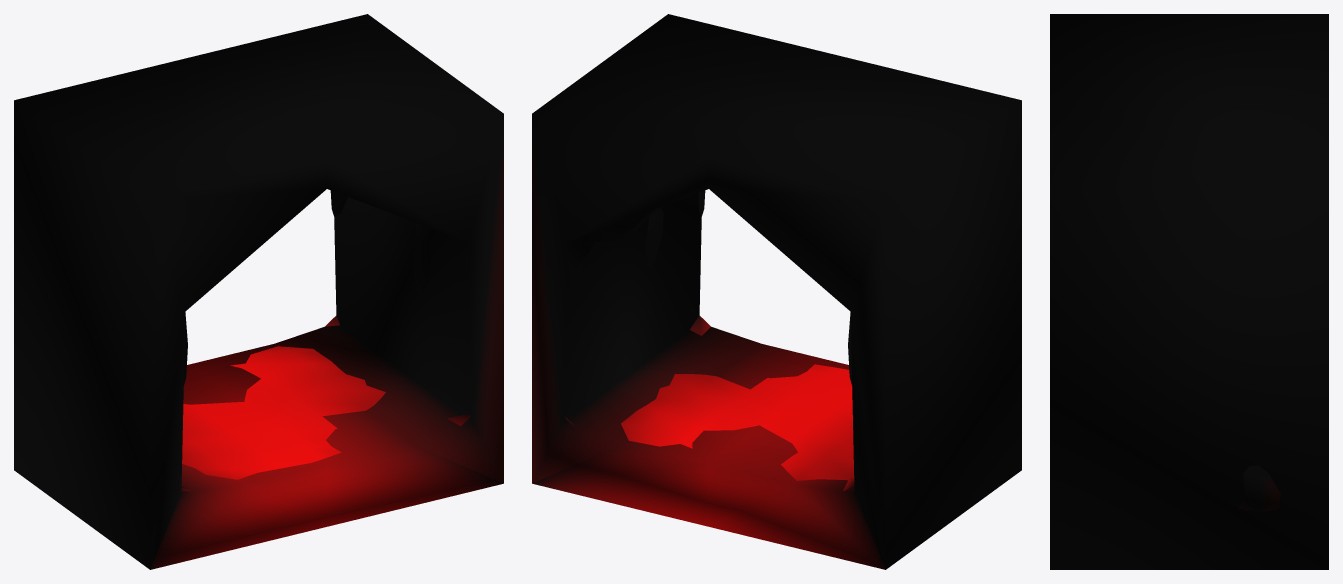
Rendered from JD_Cave_A_Tunnel_6x4_01.fbx.
The picture shows the model from 3 angles, left to right: view 1: azimuth 30°, elevation 25°; view 2: azimuth 150°, elevation 25°; view 3: azimuth 270°, elevation 25°; orthographic projection. The views are drawn at different scales.
Visible parts, largest first — view 1: C_JD_Cave_A_Tunnel_6x4_01, JD_Cave_A_Tunnel_6x4_01; view 2: C_JD_Cave_A_Tunnel_6x4_01, JD_Cave_A_Tunnel_6x4_01; view 3: C_JD_Cave_A_Tunnel_6x4_01, JD_Cave_A_Tunnel_6x4_01.
Boxes of the visible parts, x1,y1,x2,y2 form: C_JD_Cave_A_Tunnel_6x4_01: (14,14,503,569); JD_Cave_A_Tunnel_6x4_01: (181,190,471,491); C_JD_Cave_A_Tunnel_6x4_01: (532,14,1021,569); JD_Cave_A_Tunnel_6x4_01: (564,190,854,491); C_JD_Cave_A_Tunnel_6x4_01: (1050,14,1328,569); JD_Cave_A_Tunnel_6x4_01: (1238,465,1280,512).
Bounding box in the file's own units: 6.1 × 6 × 4.
